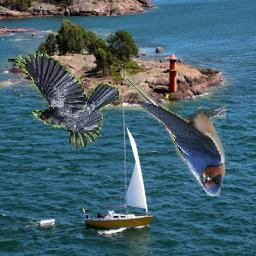Crow: (7, 49, 120, 149)
Swallow: (120, 70, 226, 196)
